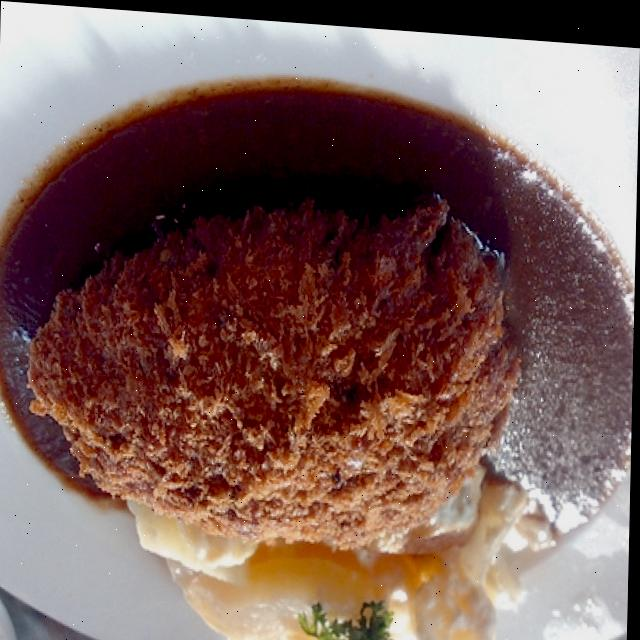炸货点心: (0, 49, 639, 640)
